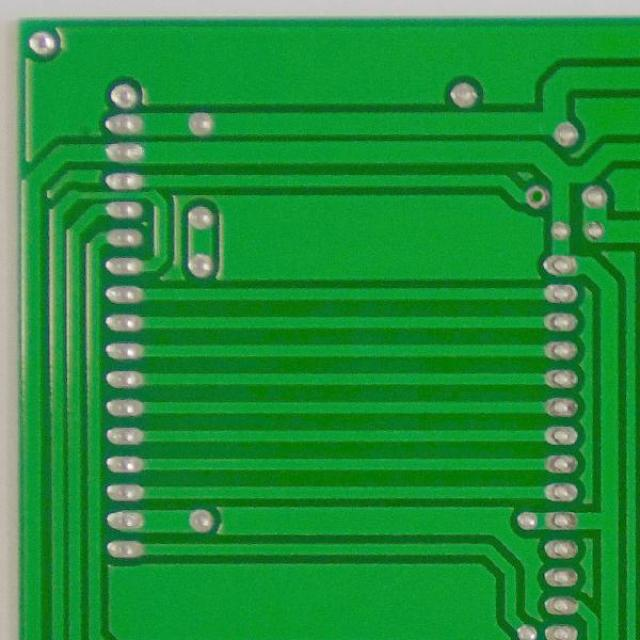Missing_Hole: (522, 183, 552, 210)
